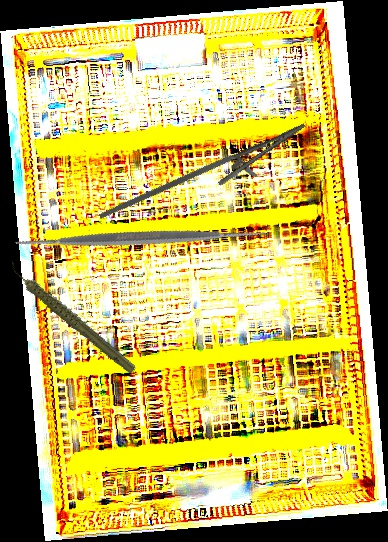Handpiece: (6, 238, 139, 395)
Needle Holder: (98, 99, 315, 257)
Spatula Surgical: (5, 102, 277, 375)
